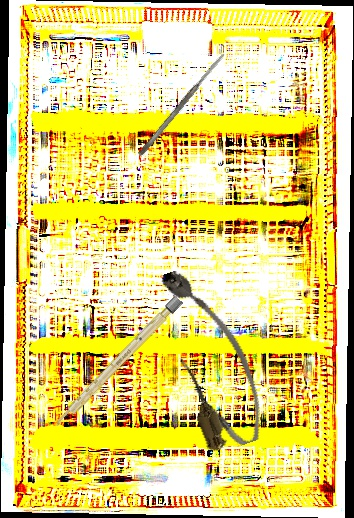Cannula: (148, 257, 275, 457)
Scalpel Handle: (52, 295, 184, 430)
Spatula Surgical: (136, 51, 228, 158)
